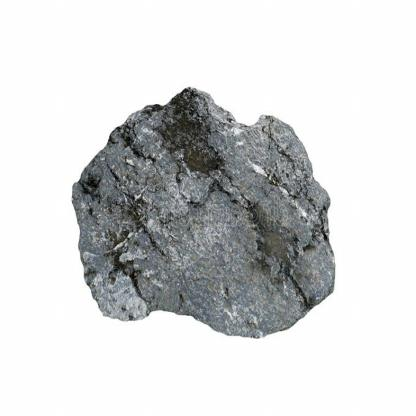Sedimentary_Limestone: (63, 77, 338, 357)
